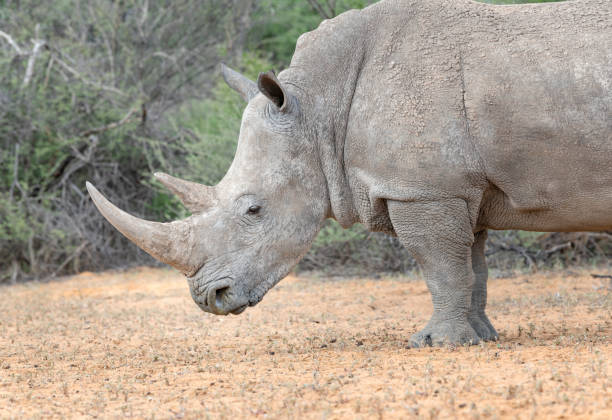rhino: (49, 36, 359, 331)
